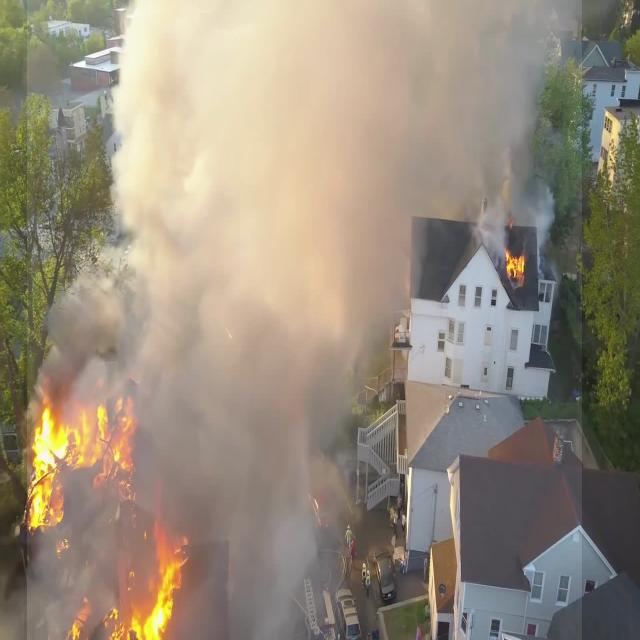Fire: (24, 390, 187, 640)
Smoke: (27, 0, 582, 640)
